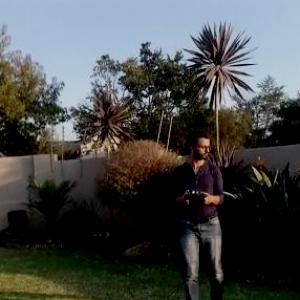follow: (171, 121, 233, 299)
